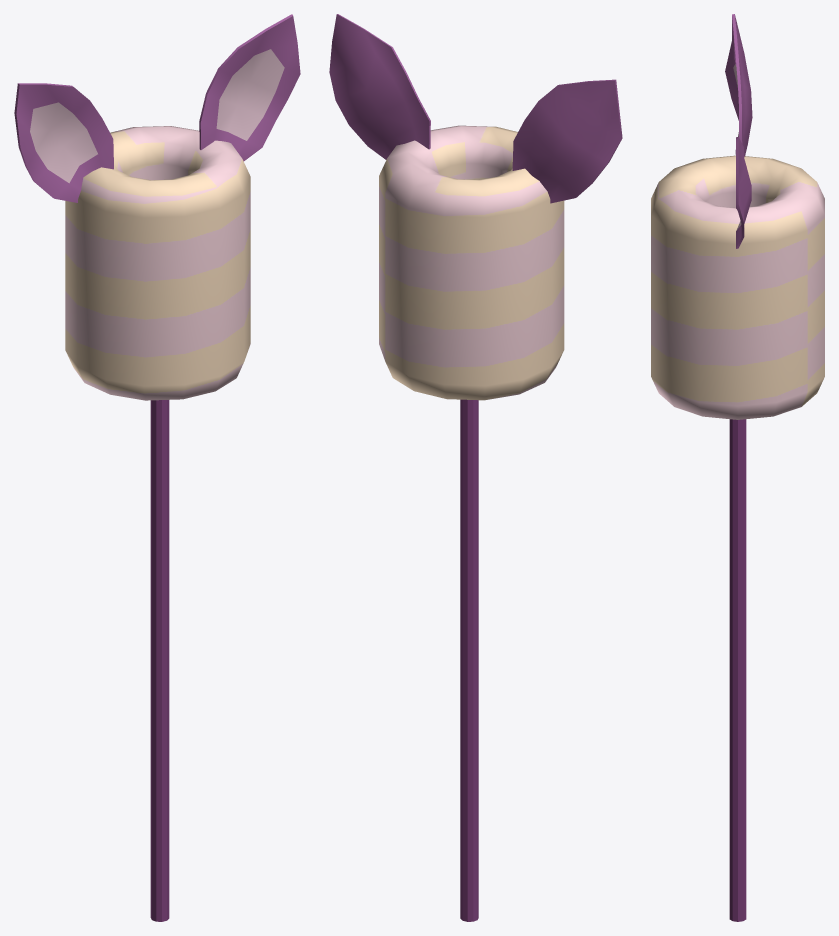
Rendered from capsule_marshmellow.fbx.
3 views of the same model, side by side, from view 1: azimuth 30°, elevation 25°; view 2: azimuth 150°, elevation 25°; view 3: azimuth 270°, elevation 25° (orthographic). The views are drawn at different scales.
Parts seen in each view (by area): view 1: hp_mmellow; view 2: hp_mmellow; view 3: hp_mmellow.
Boxes of the visible parts, <box> form: hp_mmellow: <box>14,14,300,921</box>; hp_mmellow: <box>329,14,622,921</box>; hp_mmellow: <box>651,14,824,921</box>.
Size of the model in its own units: 179 by 518 by 97.49.
